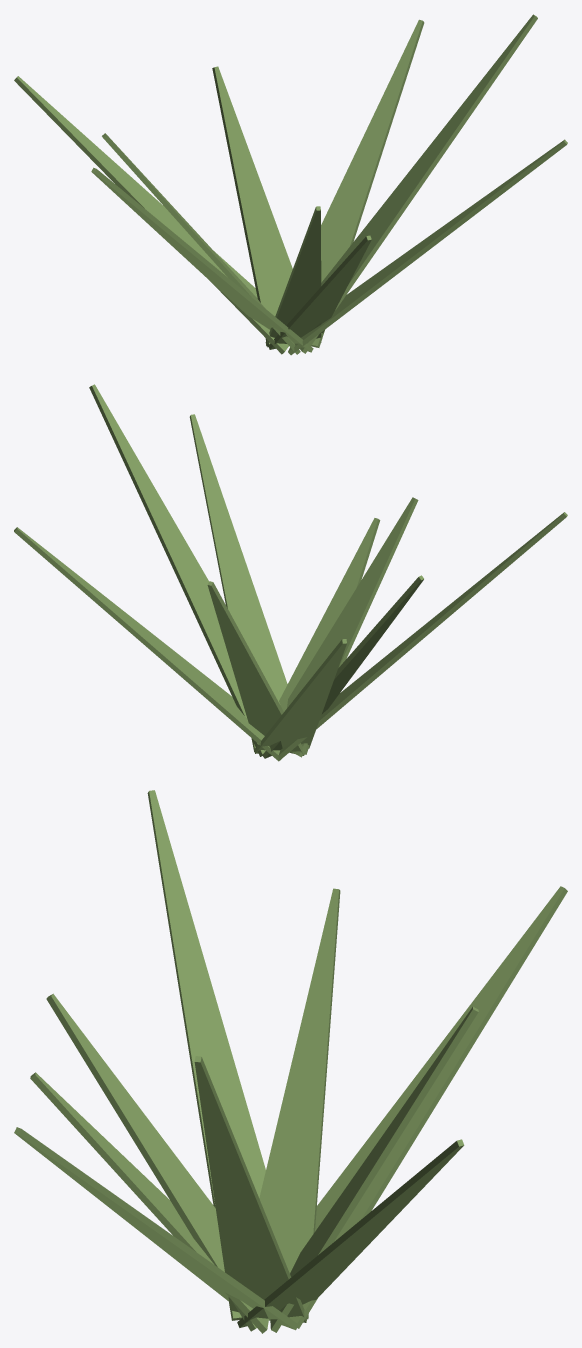
File: grass_tuft.glb
The picture shows the model from 3 angles, top to bottom: view 1: azimuth 30°, elevation 25°; view 2: azimuth 150°, elevation 25°; view 3: azimuth 270°, elevation 25°; orthographic projection. The views are drawn at different scales.
Visible parts, largest first — view 1: grass_tuft; view 2: grass_tuft; view 3: grass_tuft.
Part boxes in pixels (x1,y1,x2,y2): grass_tuft: [14, 14, 567, 355]; grass_tuft: [14, 384, 567, 761]; grass_tuft: [14, 790, 567, 1333].
Bounding box in the file's own units: 0.671 × 0.409 × 0.5053.
